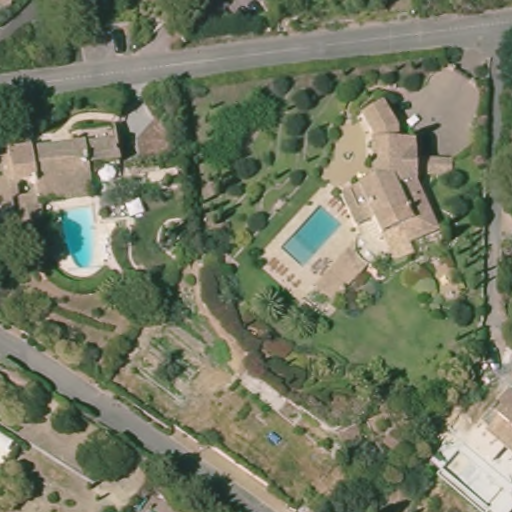pool: (279, 204, 343, 272), (51, 202, 104, 274)
